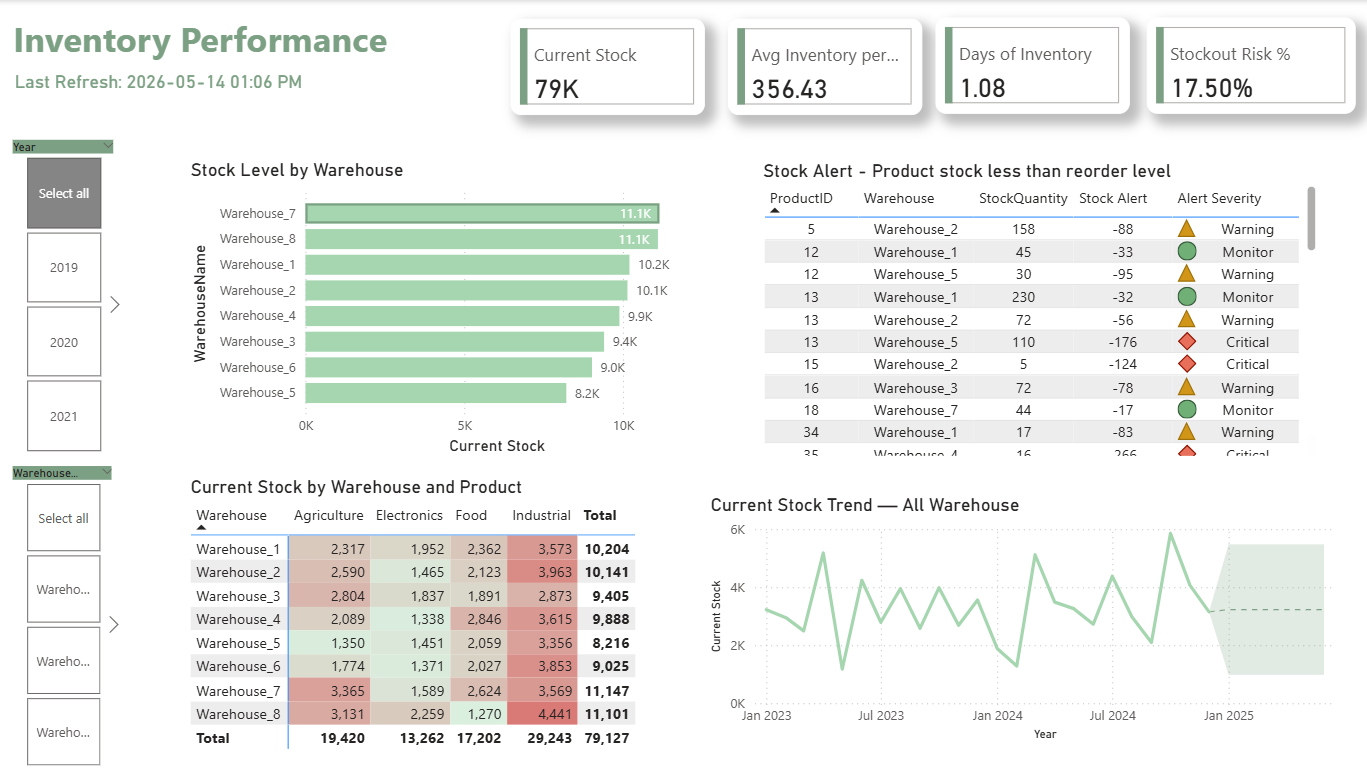

This screenshot's page, from the dashboard's own definition file:
{"tool":"powerbi","page":{"name":"Inventory Performance","canvas":[1280,720],"ordinal":1},"visuals":[{"type":"barChart","title":"Stock Level by Warehouse","fields":{"Category":["DimWarehouse.WarehouseName"],"Y":["Measure.Current Stock"]},"box":[174.4,147.7,483.7,280.2],"z":0},{"type":"cardVisual","fields":{"Data":["Measure.Current Stock"]},"box":[476.7,17.5,180.9,89.5],"z":1000,"group":"g1"},{"type":"lineChart","fields":{"Y":["Measure.Current Stock"],"Category":["DimDate.FullDate.Variation.Date Hierarchy.Year","DimDate.FullDate.Variation.Date Hierarchy.Month"]},"box":[658.1,459.3,604.7,234.9],"z":1000},{"type":"cardVisual","fields":{"Data":["Measure.Average Inventory"]},"box":[678.8,17.5,180.9,89.5],"z":2000,"group":"g1"},{"type":"pivotTable","title":"Current Stock by Warehouse and Product","fields":{"Rows":["DimWarehouse.WarehouseName"],"Columns":["DimProduct.Category"],"Values":["Sum(FactInventory.StockQuantity)"]},"box":[174.4,443,465.1,276.7],"z":2000},{"type":"cardVisual","fields":{"Data":["Measure.Days of Inventory"]},"box":[872,16.3,180.9,89.5],"z":3000,"group":"g1"},{"type":"tableEx","title":"Stock Alert - Product stock less than reorder level","fields":{"Values":["DimProduct.ProductID","DimWarehouse.WarehouseName","Sum(FactInventory.StockQuantity)","Sum(FactInventory.Stock Alert)","Measure.Alert Severity"]},"box":[707,148.8,524.4,280.2],"z":3000},{"type":"textbox","box":[9.3,9.3,364,53.5],"z":4000},{"type":"cardVisual","fields":{"Data":["Measure.Stockout Risk %"]},"box":[1068.5,16.3,194.3,89.5],"z":4000,"group":"g1"},{"type":"group","id":"g1","title":"Group 1","box":[476.7,16.3,786,90.7],"z":5000},{"type":"slicer","fields":{"Values":["DimDate.FullDate.Variation.Date Hierarchy.Year"]},"box":[0,124.9,120.8,303.3],"z":6000},{"type":"slicer","fields":{"Values":["DimWarehouse.WarehouseName"]},"box":[0,427.9,119.8,291.9],"z":7000},{"type":"card","title":"Last Refresh","fields":{"Values":["DimCarrier.Last Refresh Title"]},"box":[5.8,57,287.2,39.5],"z":8000}]}

Visuals, with their boxes in screenshot pixels (x1, y1, x2, y2), scaled from the page's 1280x720 canvas onto the 1367x769 screenshot:
"Stock Level by Warehouse" barChart: (186, 158, 703, 457)
cardVisual - Measure.Current Stock: (509, 19, 702, 114)
lineChart - Measure.Current Stock x DimDate.FullDate.Variation.Date Hierarchy.Year: (703, 491, 1349, 741)
cardVisual - Measure.Average Inventory: (725, 19, 918, 114)
"Current Stock by Warehouse and Product" pivotTable: (186, 473, 683, 768)
cardVisual - Measure.Days of Inventory: (931, 17, 1124, 113)
"Stock Alert - Product stock less than reorder level" tableEx: (755, 159, 1315, 458)
textbox: (10, 10, 399, 67)
cardVisual - Measure.Stockout Risk %: (1141, 17, 1349, 113)
"Group 1" group: (509, 17, 1349, 114)
slicer - DimDate.FullDate.Variation.Date Hierarchy.Year: (0, 133, 129, 457)
slicer - DimWarehouse.WarehouseName: (0, 457, 128, 768)
"Last Refresh" card: (6, 61, 313, 103)
